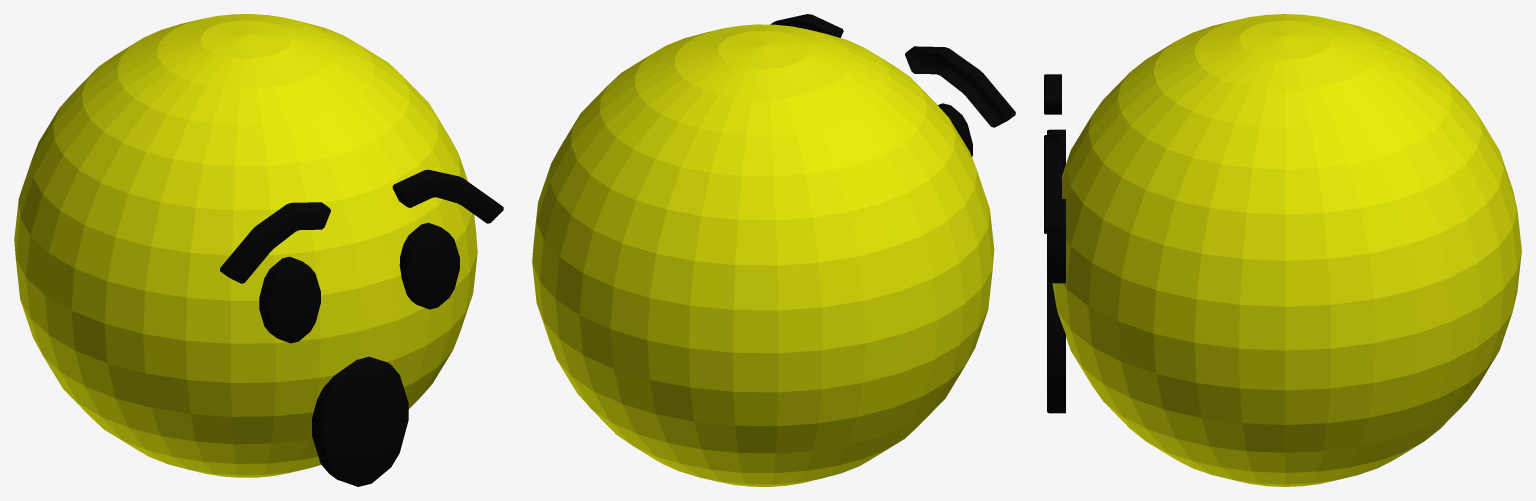
Rendered from Wow.fbx.
3 renders of one model, left to right at view 1: azimuth 30°, elevation 25°; view 2: azimuth 150°, elevation 25°; view 3: azimuth 270°, elevation 25°, orthographic. The views are drawn at different scales.
Parts seen in each view (by area): view 1: Wow; view 2: Wow; view 3: Wow.
Part boxes in pixels (bbox=[...]): Wow: bbox=[14, 14, 503, 486]; Wow: bbox=[532, 14, 1015, 486]; Wow: bbox=[1044, 14, 1521, 486].
Bounding box in the file's own units: 89.67 × 89.67 × 90.49.
